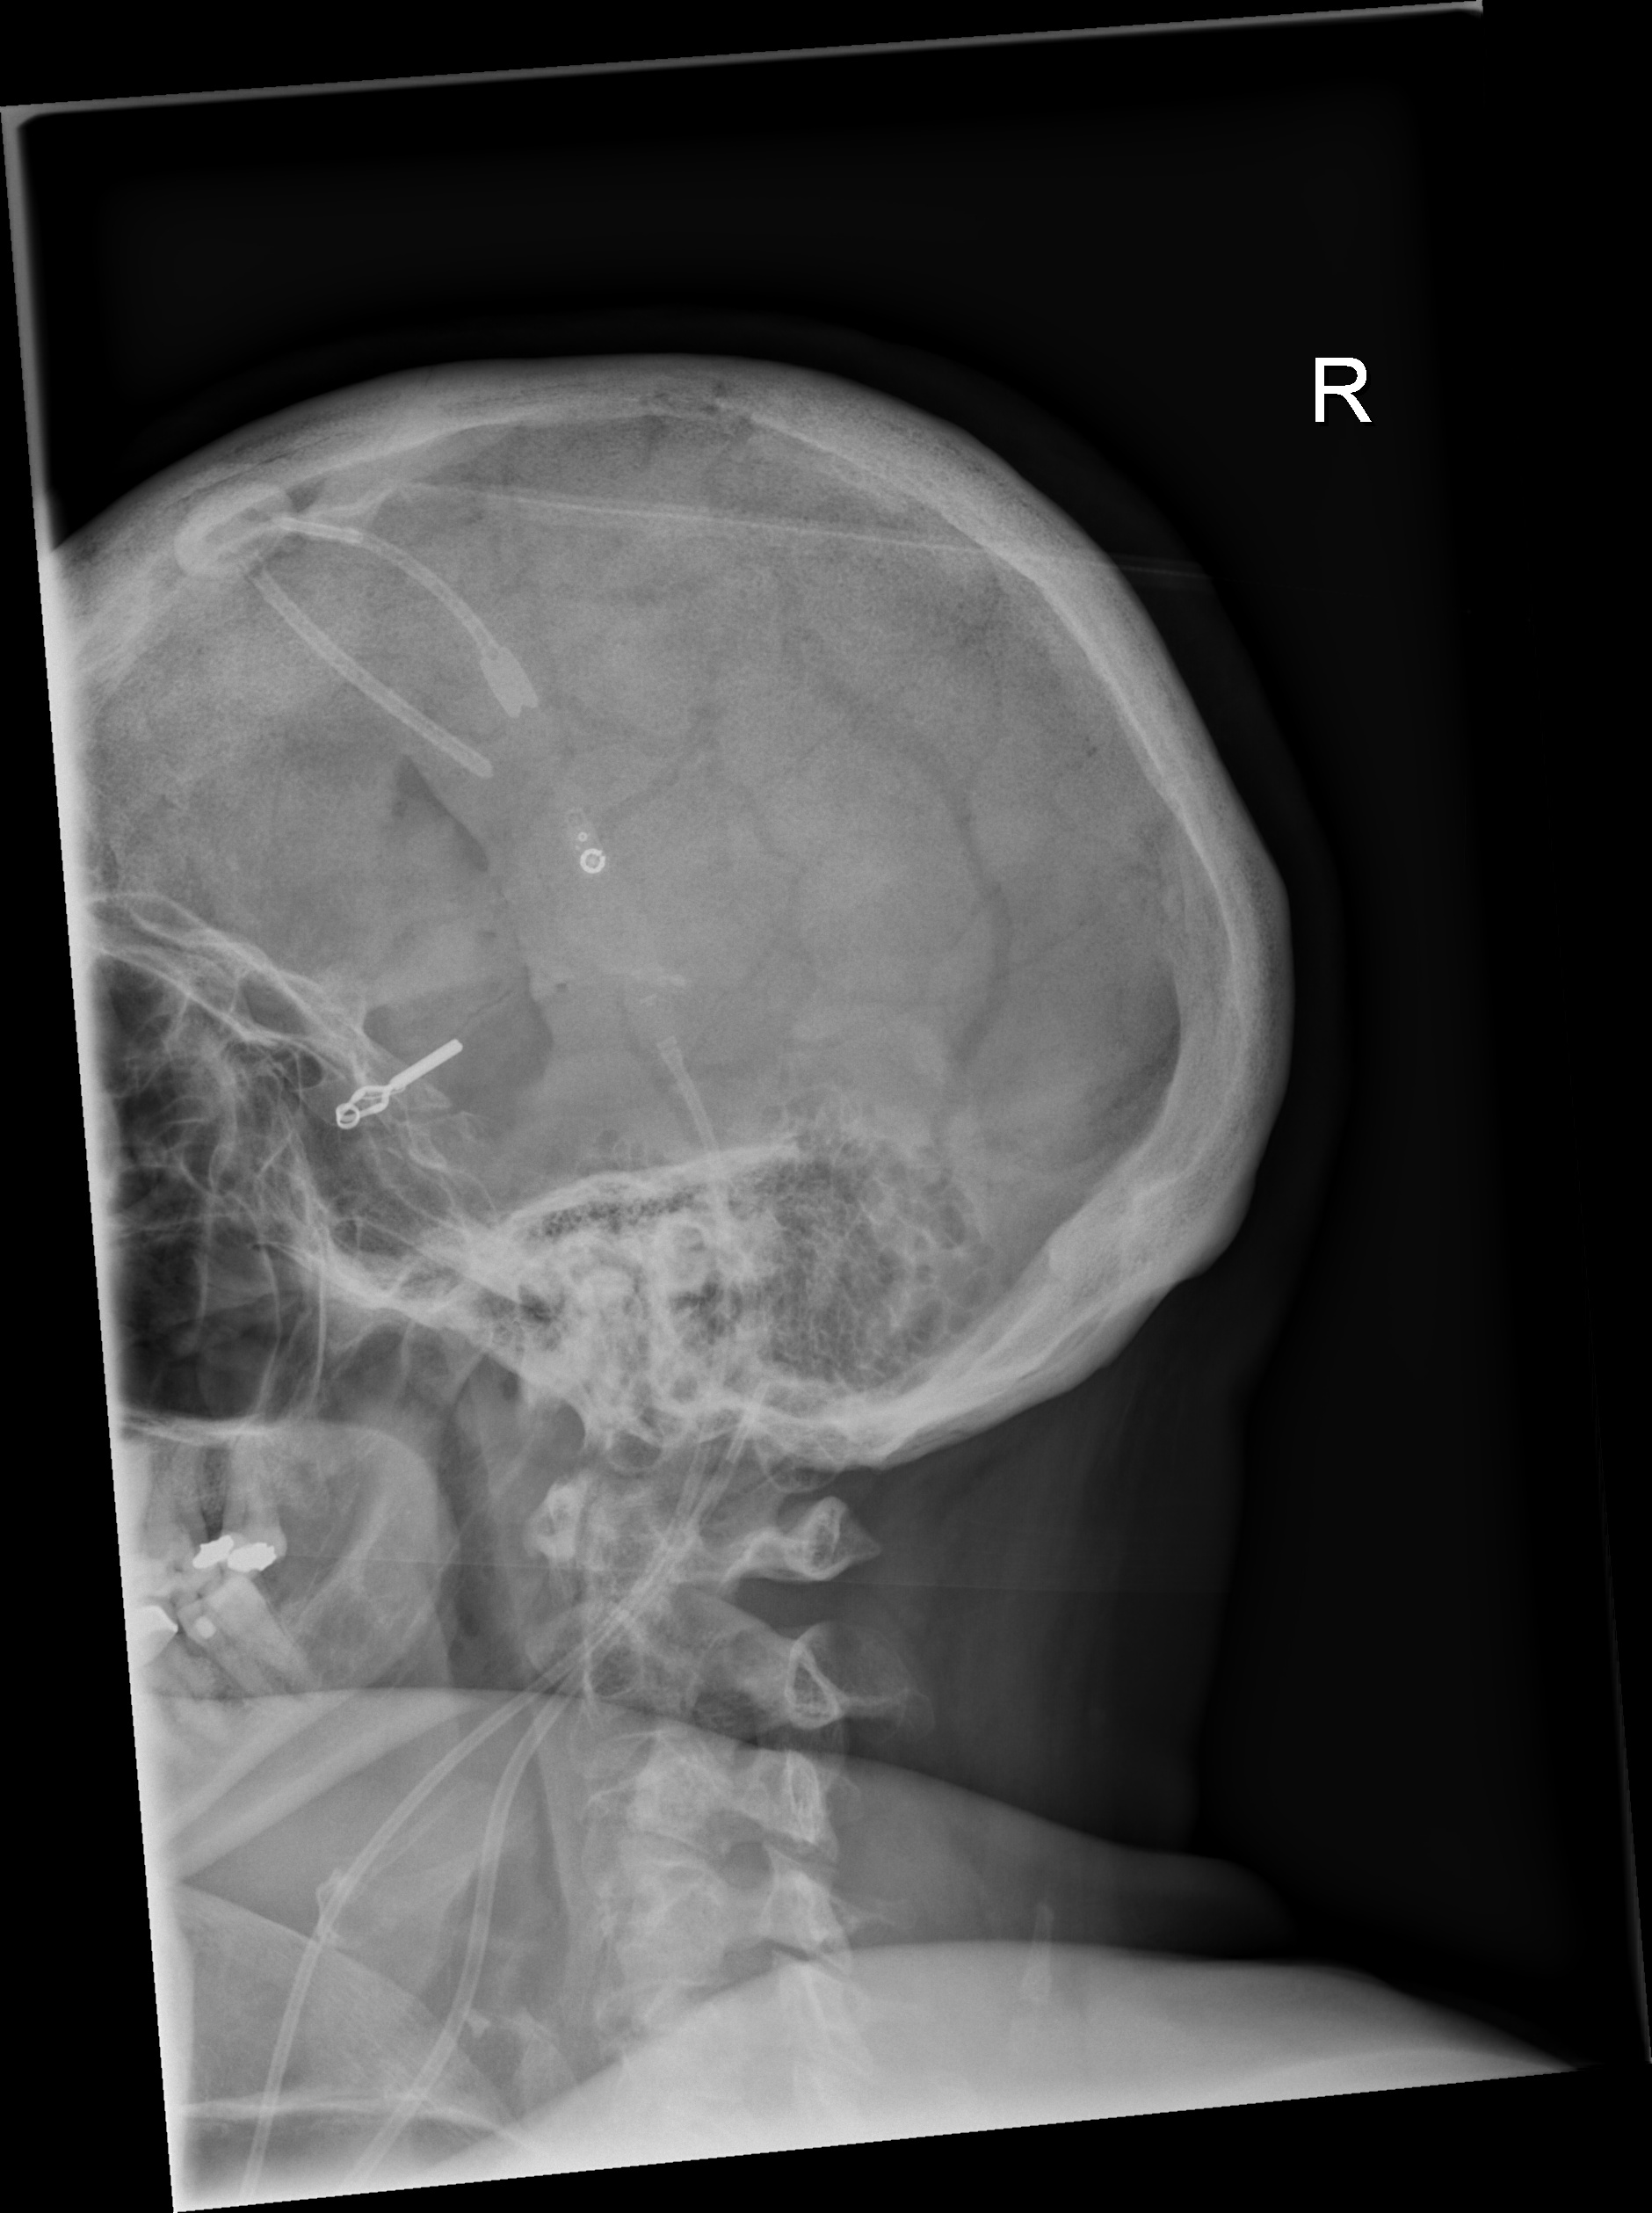Codman Hakim: (559, 818, 614, 887)
